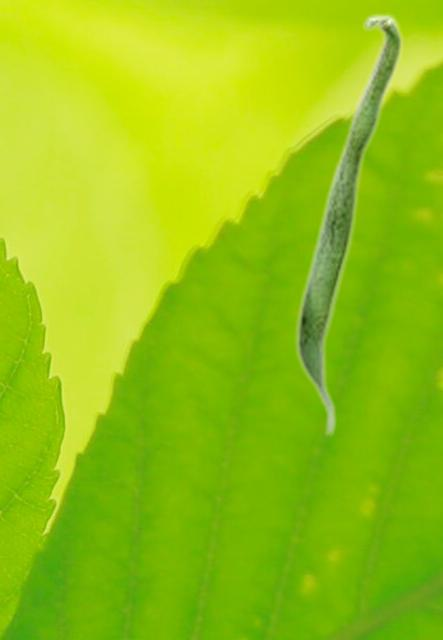french_bean: (294, 12, 403, 438)
